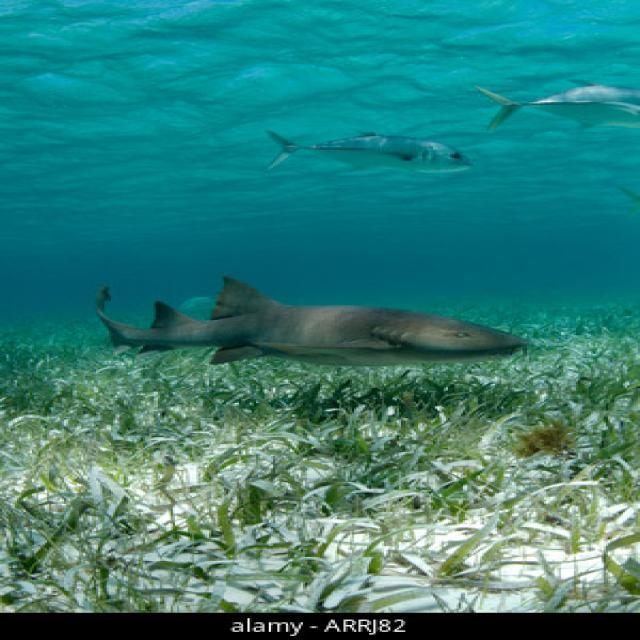Shark: (68, 212, 531, 387)
